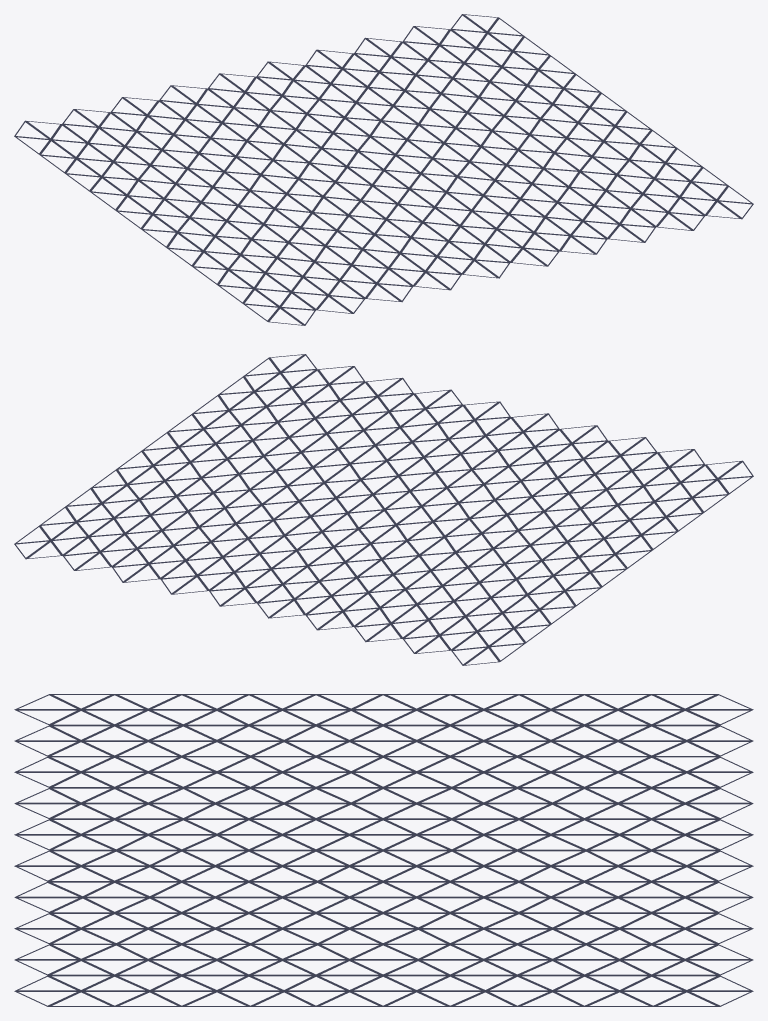
The model's file is room_ceiling_grate.glb.
3 renders of one model, top to bottom at view 1: azimuth 30°, elevation 25°; view 2: azimuth 150°, elevation 25°; view 3: azimuth 270°, elevation 25°, orthographic. The views are drawn at different scales.
Parts seen in each view (by area): view 1: CeilingGrate; view 2: CeilingGrate; view 3: CeilingGrate.
Part boxes in pixels (x1,y1,x2,y2): CeilingGrate: (14,14,753,325); CeilingGrate: (14,354,753,665); CeilingGrate: (14,694,753,1006).
Bounding box in the file's own units: 10 × 0 × 10.
